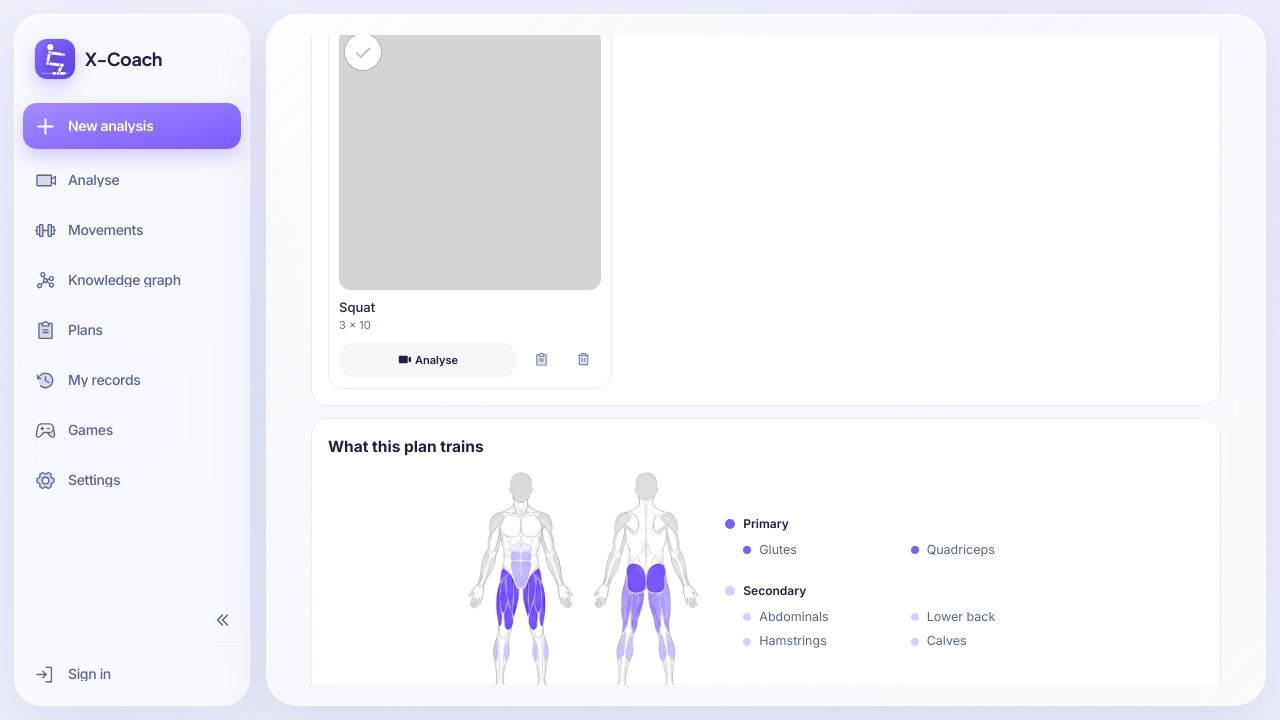
it: PlanDetail — red-flag banner › opens the check-in dialog from the item's report button
(page scrolled)
Click the button named "report today's status": (541, 360) [523, 342, 559, 378]
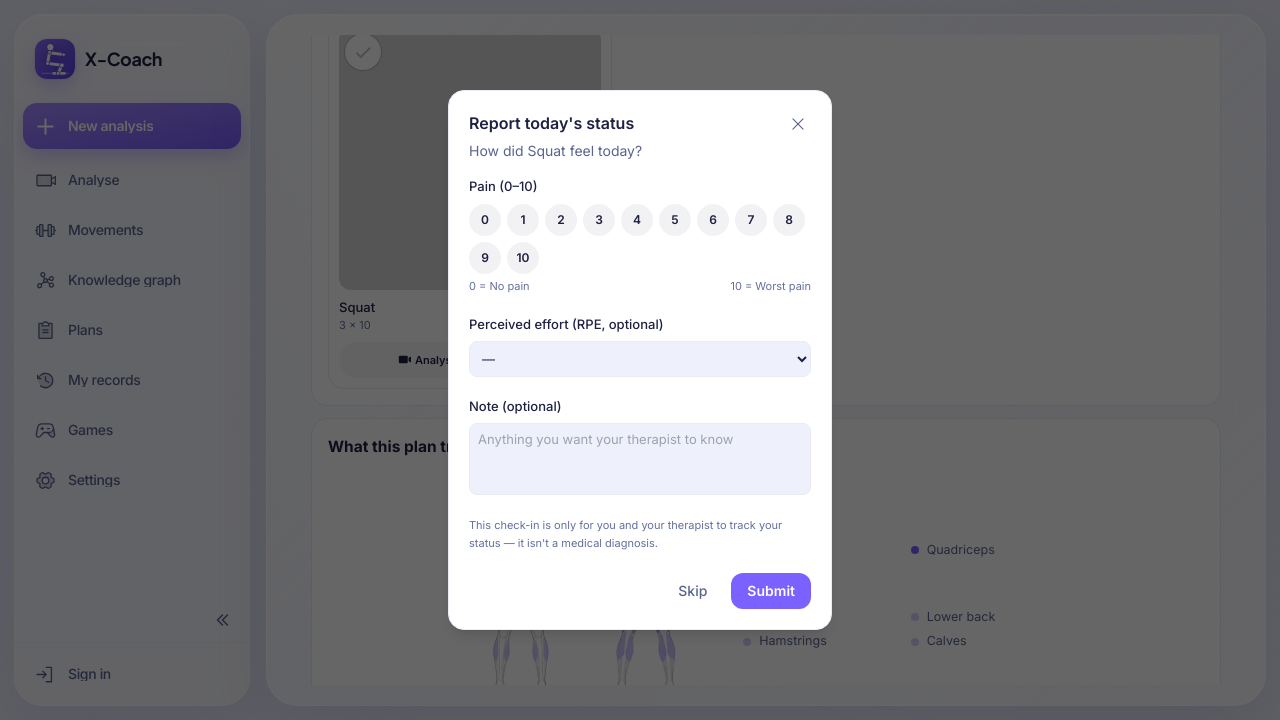
Expected: the dialog is shown, [448, 90, 832, 630]
